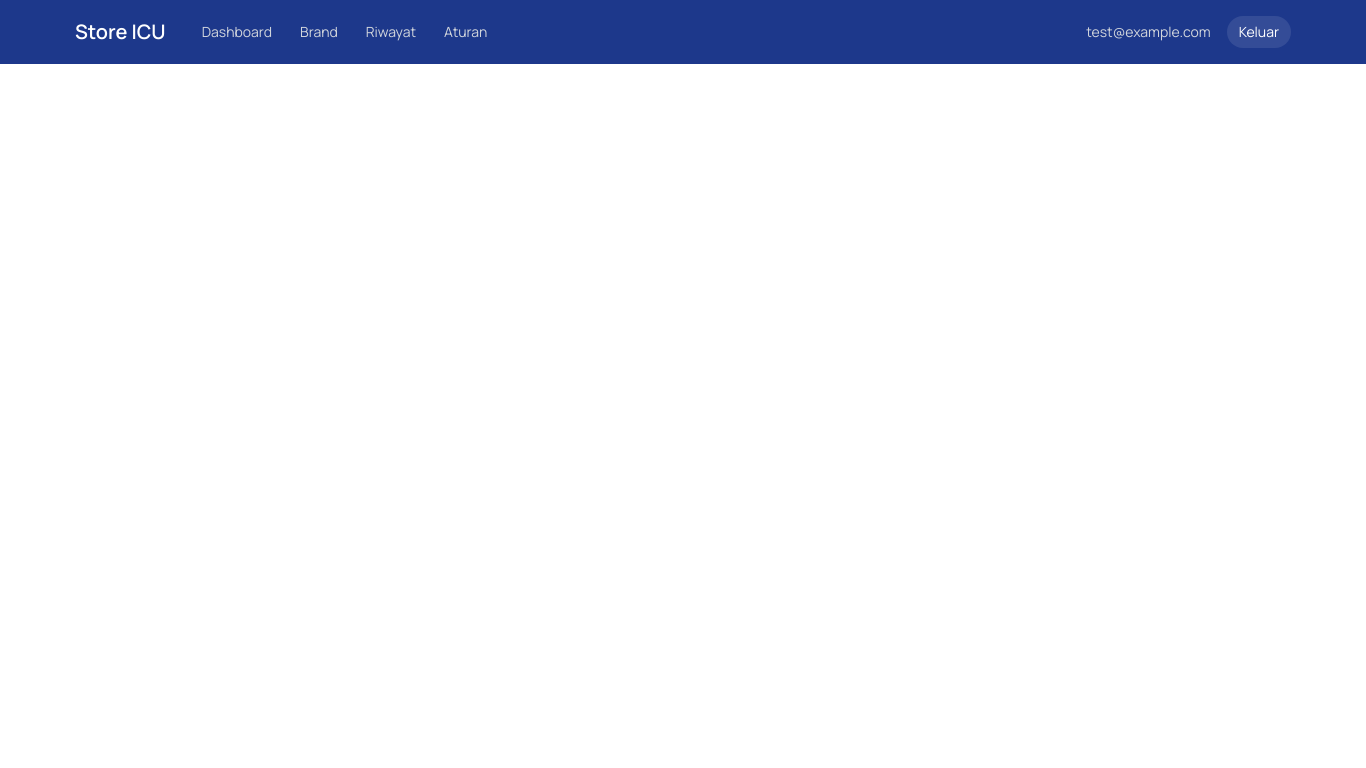
Test: Header › shows confirmation dialog when logout is clicked
Click the button "Keluar" at [1259, 32], box [1227,16,1291,48]
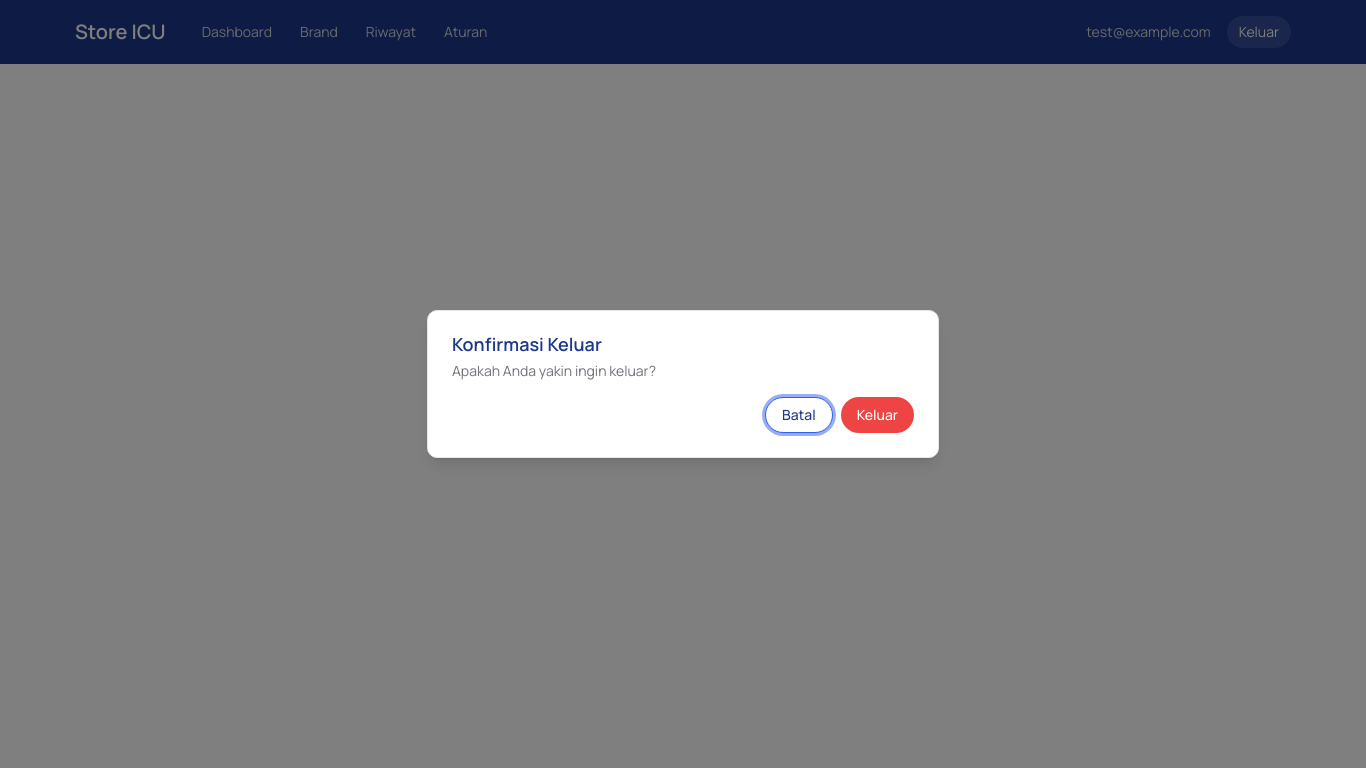
Result: the heading "Konfirmasi Keluar" is shown at [452,332,602,356]
Result: the text "Apakah Anda yakin ingin keluar?" is shown at [452,361,656,380]
